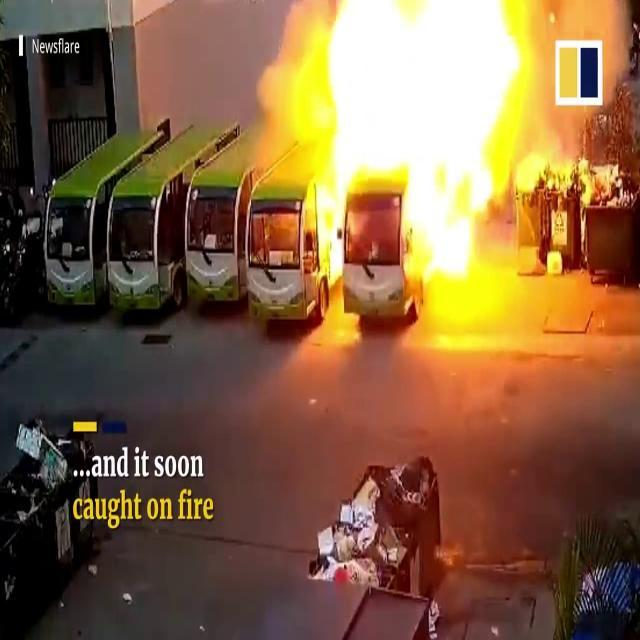Fire: (266, 0, 545, 321)
